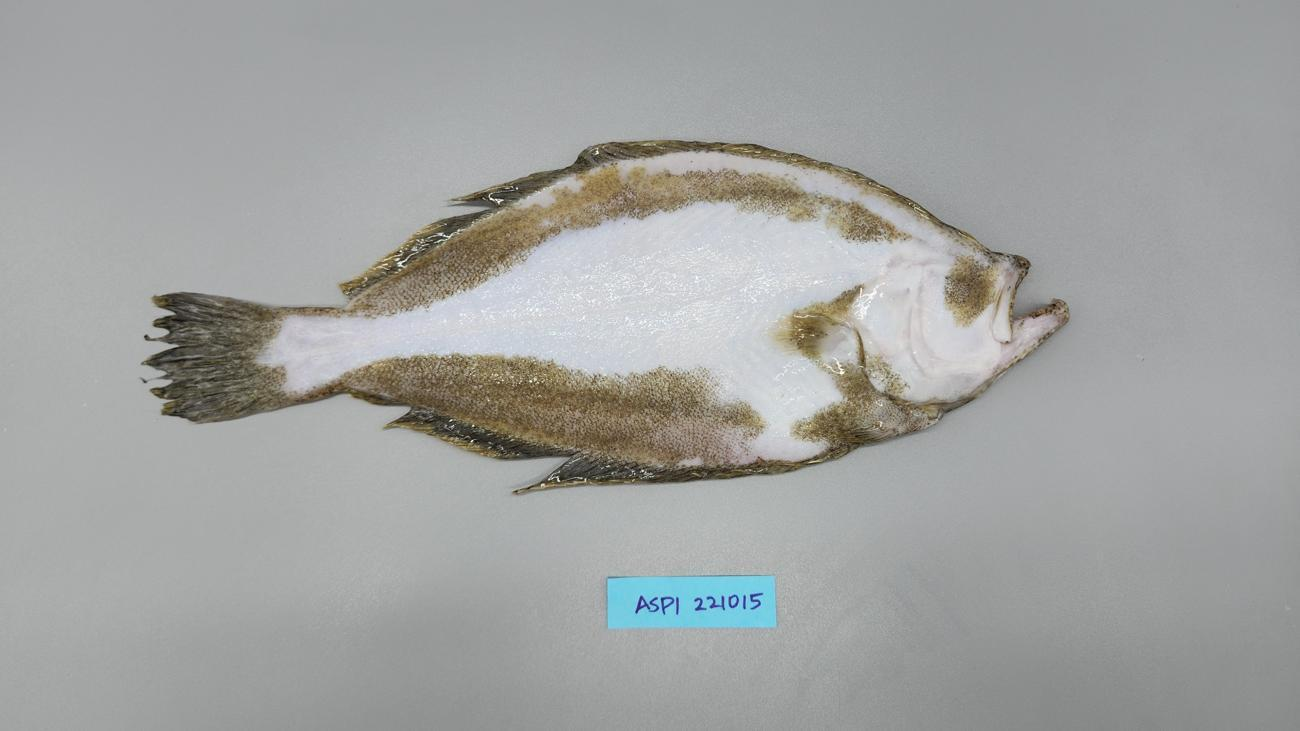SPOUY: (135, 133, 1080, 506)
